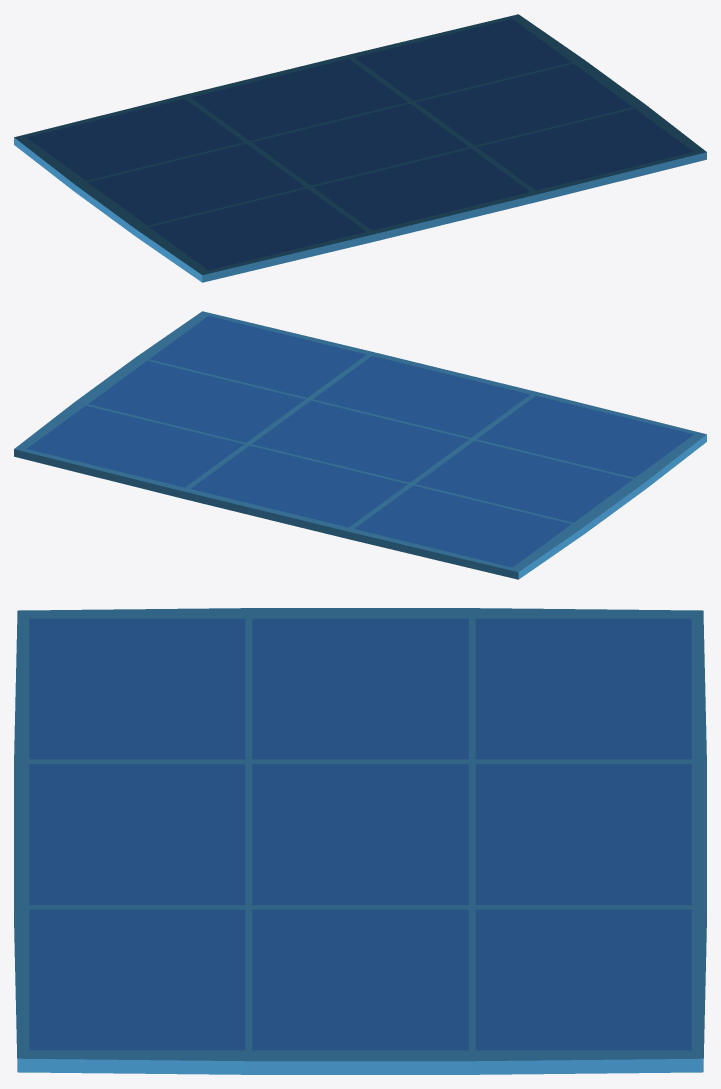
The model's file is Carpet 1.fbx.
3 views of the same model, one above another, from view 1: azimuth 30°, elevation 25°; view 2: azimuth 150°, elevation 25°; view 3: azimuth 270°, elevation 25° (orthographic). The views are drawn at different scales.
Parts seen in each view (by area): view 1: Carpet; view 2: Carpet; view 3: Carpet.
Boxes of the visible parts, <box> form: Carpet: <box>14,14,706,282</box>; Carpet: <box>14,311,706,579</box>; Carpet: <box>14,608,706,1074</box>.
Bounding box in the file's own units: 2.43 × 0.053 × 3.75.
